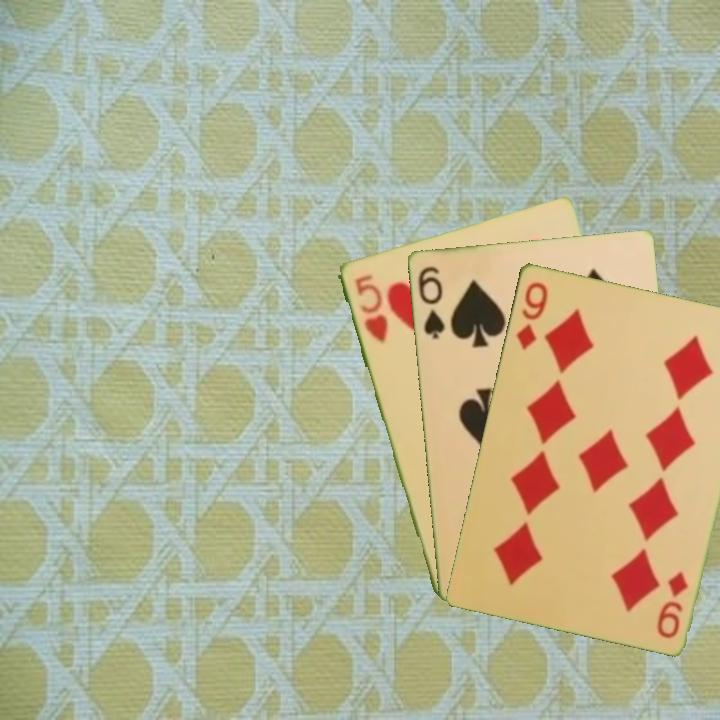5h: (351, 270, 391, 346)
6s: (414, 262, 447, 341)
9d: (512, 278, 551, 353), (653, 567, 691, 641)
